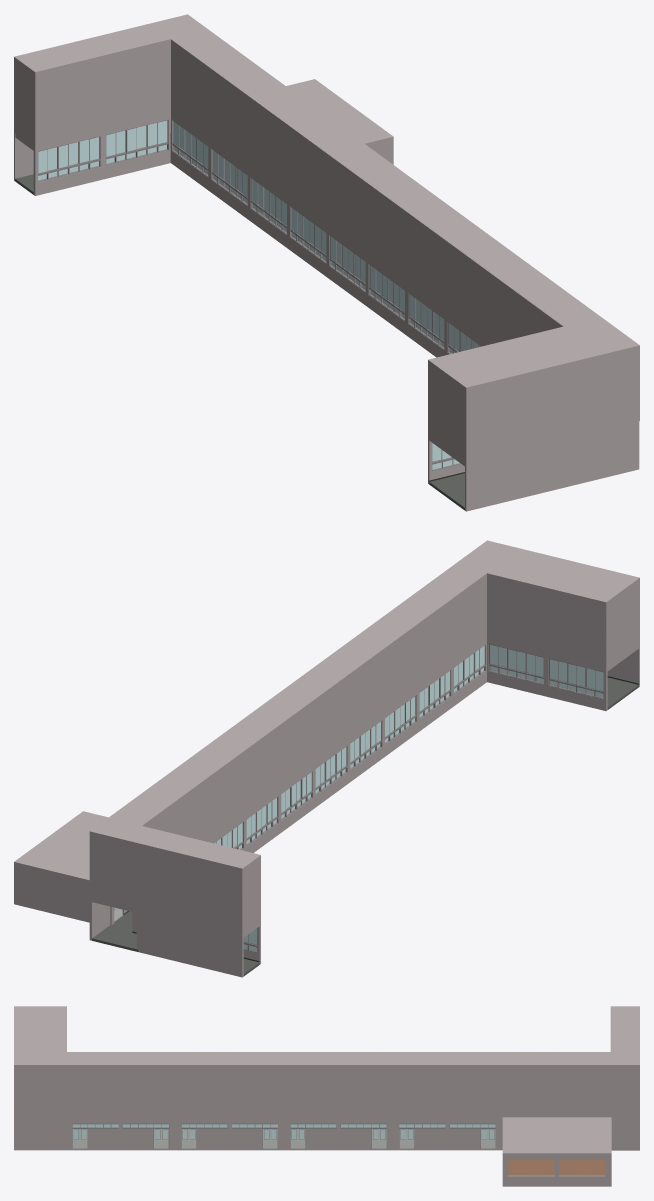
File: anime-school-hallway-light.glb
3 renders of one model, top to bottom at view 1: azimuth 30°, elevation 25°; view 2: azimuth 150°, elevation 25°; view 3: azimuth 270°, elevation 25°, orthographic. The views are drawn at different scales.
Parts seen in each view (by area): view 1: Object_7; view 2: Object_7; view 3: Object_7.
Part boxes in pixels (x1,y1,x2,y2): Object_7: [14, 14, 639, 511]; Object_7: [14, 540, 639, 977]; Object_7: [14, 1006, 639, 1186].
Bounding box in the file's own units: 21.32 × 9.01 × 59.54.
1 material, 1 textured.
